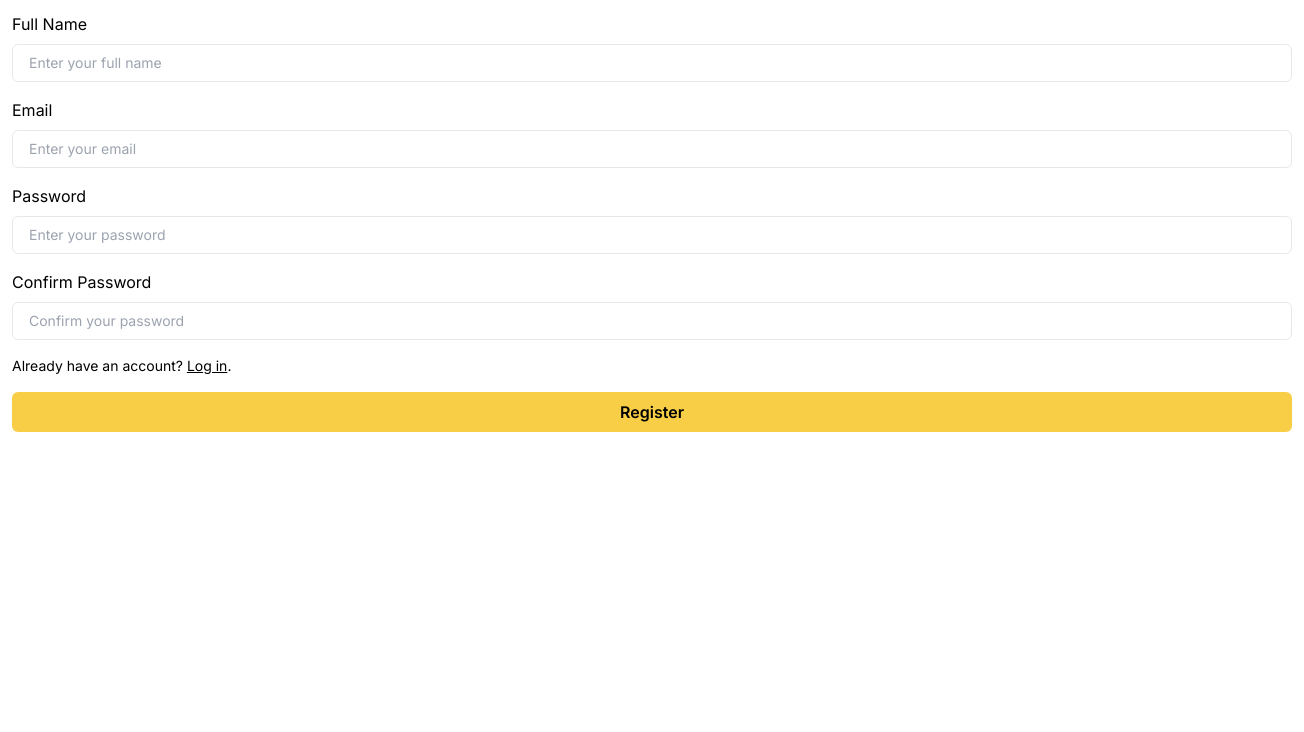
Scenario: RegisterForm › should display validation errors for empty fields
Click the button "Register" at (652, 412), box [12, 392, 1292, 432]
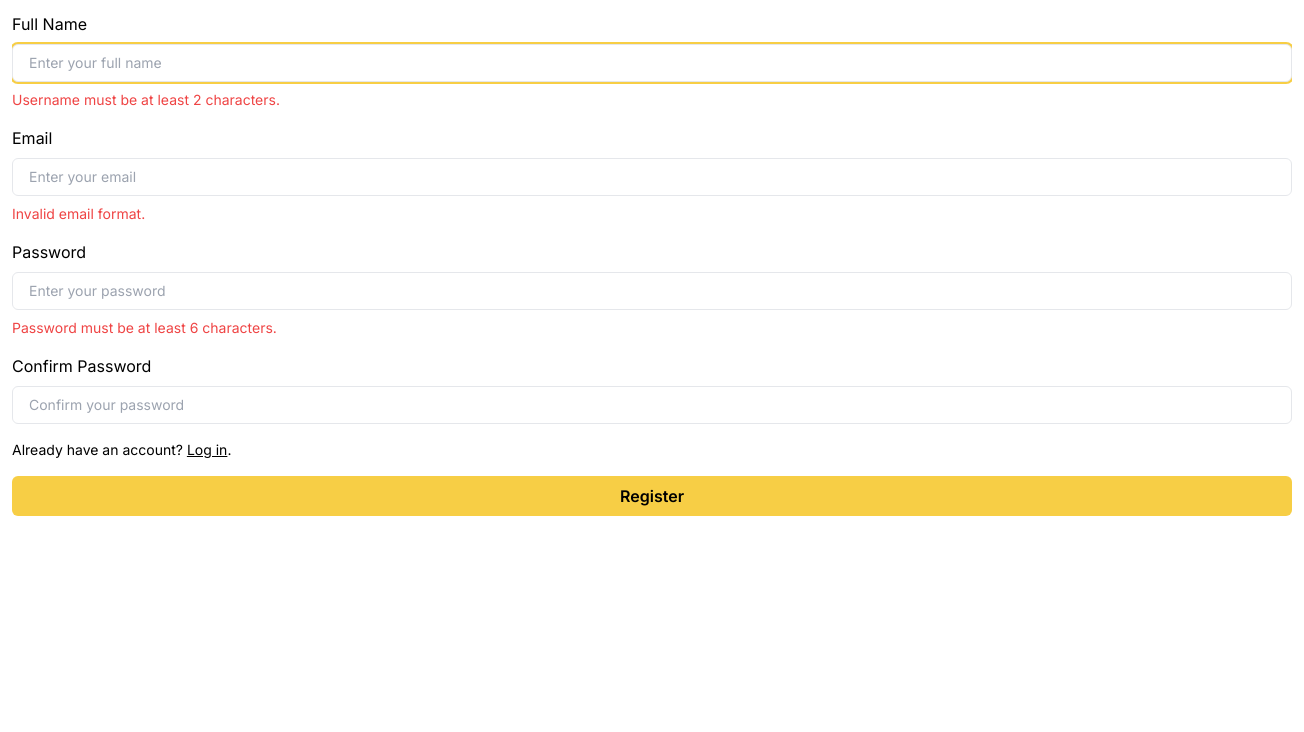
Expected: the text "Username must be at least 2 characters." is shown, [12, 91, 280, 108]
Expected: the text "Invalid email format." is shown, [12, 205, 145, 222]
Expected: the text "Password must be at least 6 characters." is shown, [12, 319, 277, 336]
